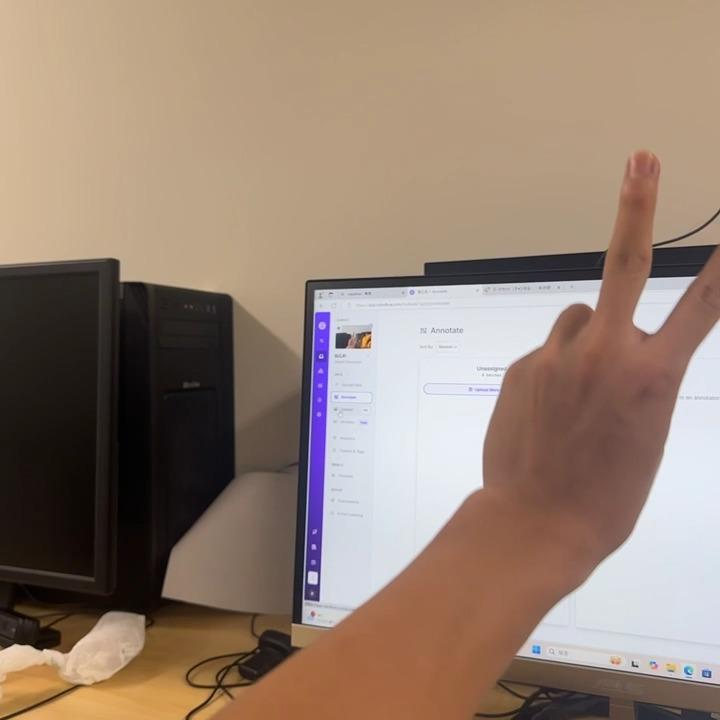without_gloves: (421, 36, 720, 594)
